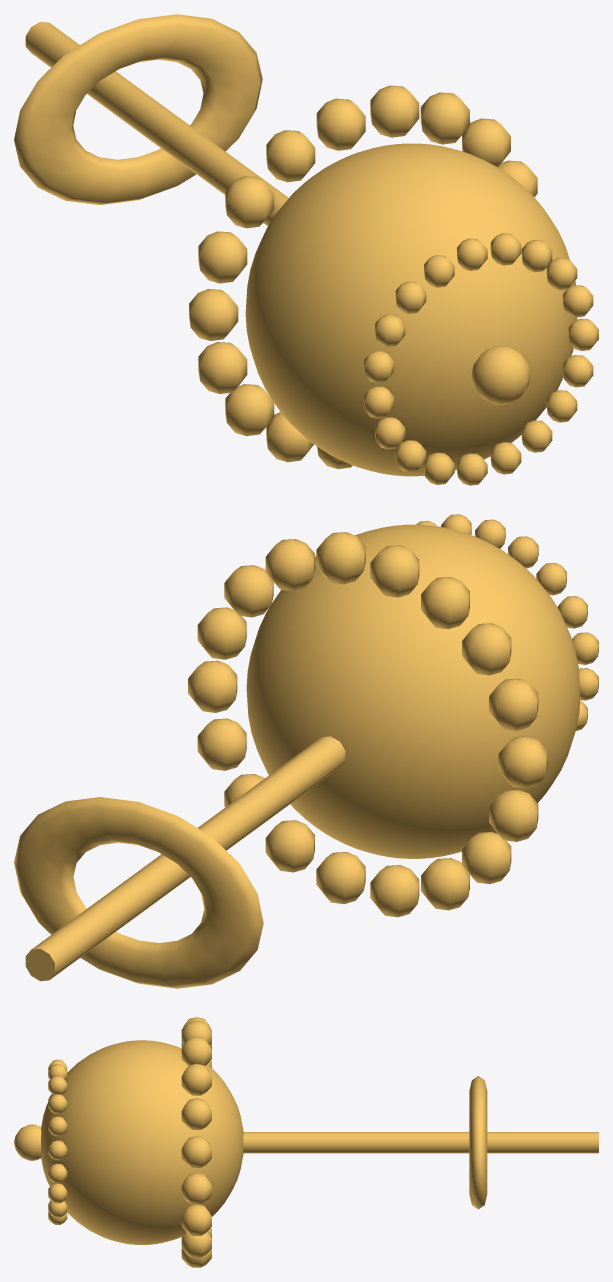
The model's file is gold-ball-stud.glb.
3 renders of one model, top to bottom at view 1: azimuth 30°, elevation 25°; view 2: azimuth 150°, elevation 25°; view 3: azimuth 270°, elevation 25°, orthographic. The views are drawn at different scales.
Visible parts, largest first — view 1: gold-ball-stud_gold22k; view 2: gold-ball-stud_gold22k; view 3: gold-ball-stud_gold22k.
Part boxes in pixels (box(x1,y1,x2,y2)): gold-ball-stud_gold22k: box(14, 14, 598, 485); gold-ball-stud_gold22k: box(14, 514, 598, 988); gold-ball-stud_gold22k: box(14, 1017, 598, 1267).
Size of the model in its own units: 0.6814 by 0.6809 by 1.6.
